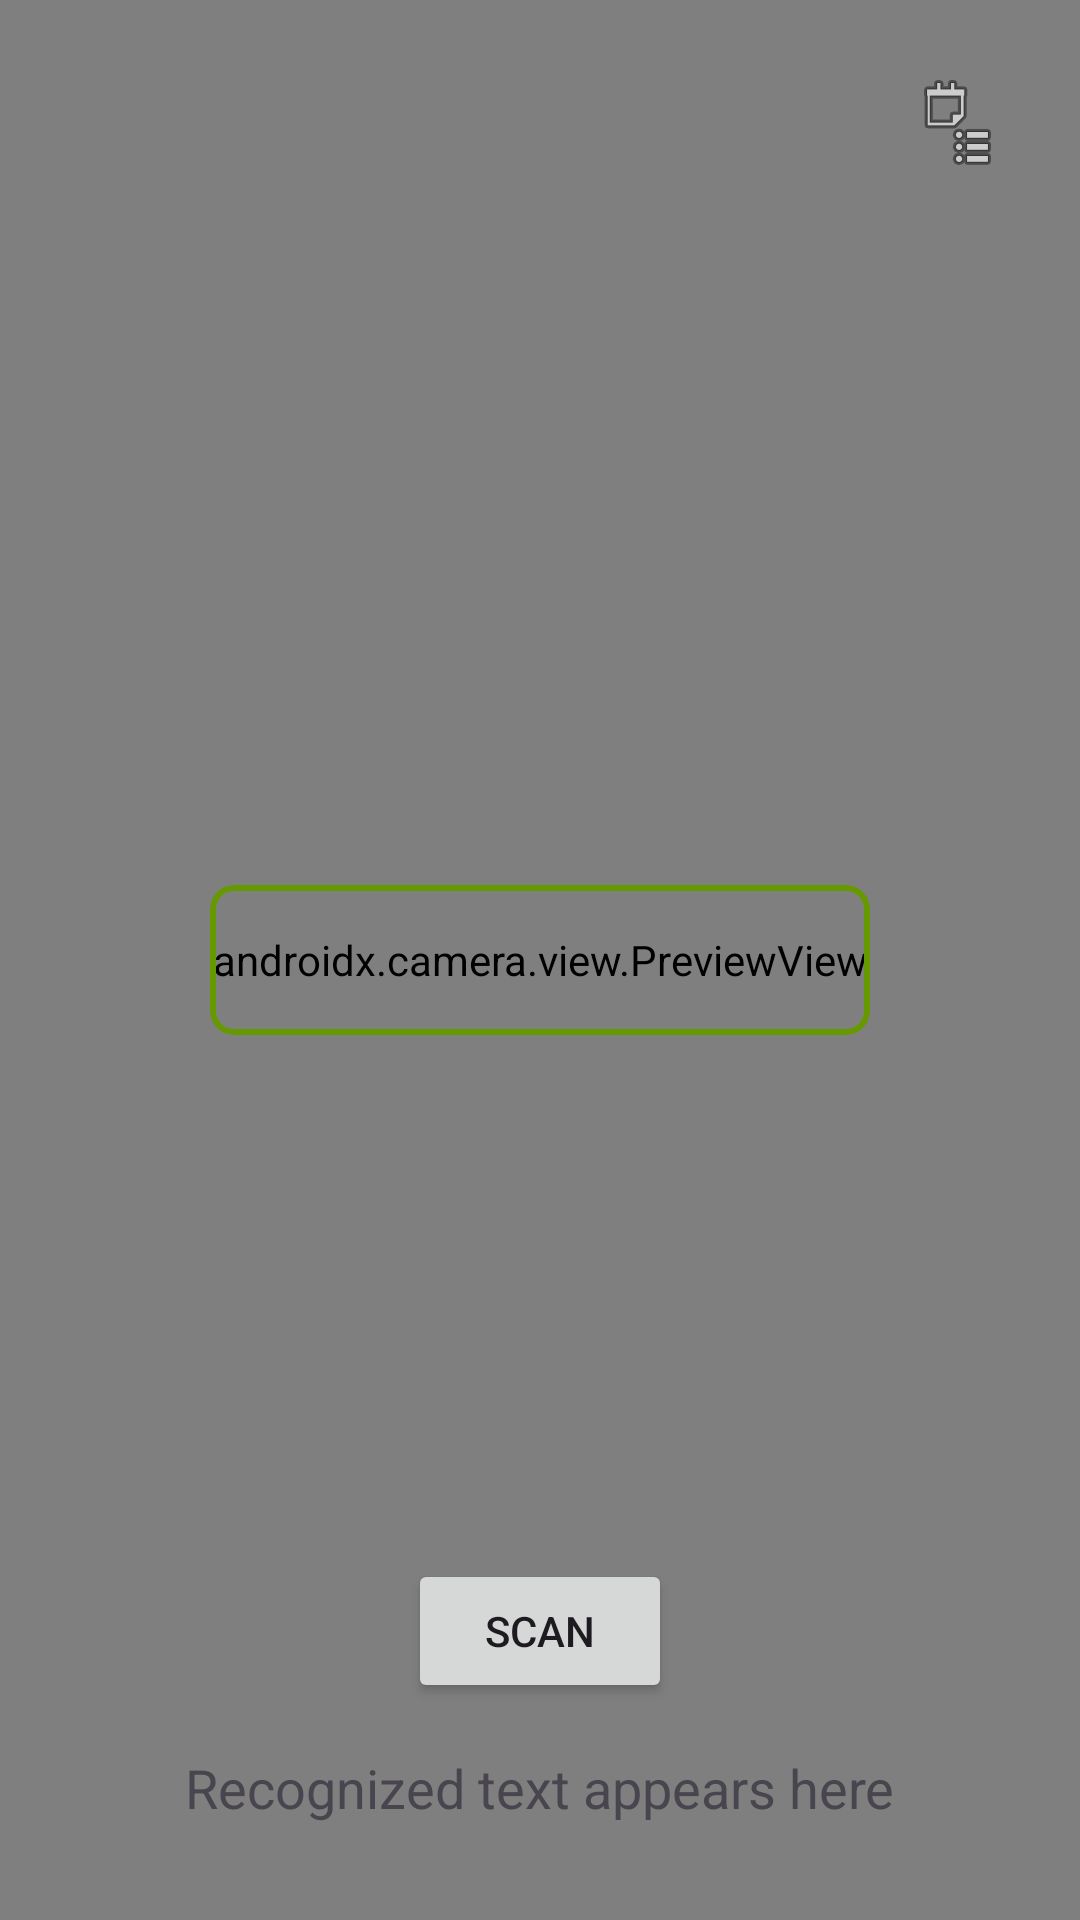

Named icons in this screenshot (1080*1920) and their bounding boxes, {"left": x1, "top": y1, "right": x2, "bottom": y2}:
Show scan list: {"left": 924, "top": 80, "right": 991, "bottom": 165}
